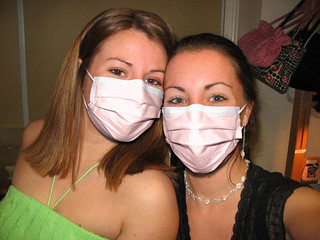surgical: (79, 71, 163, 144), (159, 103, 244, 174)
